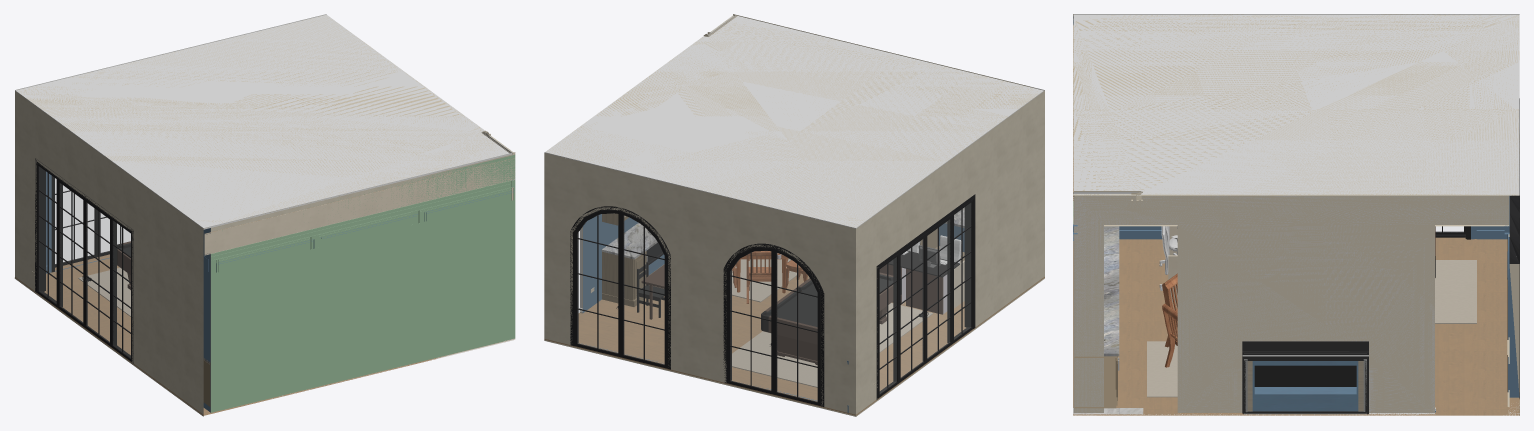
Rendered from game-room-bf35b26e3b4c.glb.
3 renders of one model, left to right at view 1: azimuth 30°, elevation 25°; view 2: azimuth 150°, elevation 25°; view 3: azimuth 270°, elevation 25°, orthographic. The views are drawn at different scales.
Visible parts, largest first — view 1: game-room-4a969f5cc1ae3dfe, game-room-30c5953c9ad73e5d, game-room-039192b0560cfac3, game-room-50d54560d247b537, game-room-9fbf623a647a21dd, game-room-2575515a05775d9e, game-room-3b0077416469e01b, game-room-67b6630d0fa028c8, game-room-8b1c368f4645b32b, game-room-bd62734a7bc60eb7, game-room-67f50005143d10e9, game-room-76fec1e12e3db62a; view 2: game-room-4a969f5cc1ae3dfe, game-room-969b861f9850351e, game-room-039192b0560cfac3, game-room-50d54560d247b537, game-room-67b6630d0fa028c8, game-room-b7bc8997c06ae95e, game-room-9fbf623a647a21dd, game-room-3b0077416469e01b, game-room-7e27048eb38fd2e0, game-room-67f50005143d10e9, game-room-7702f65bebcbcfe5, game-room-3e6709f91b43c3bf (+7 smaller); view 3: game-room-4a969f5cc1ae3dfe, game-room-3e6709f91b43c3bf, game-room-50d54560d247b537, game-room-55ff1dfd7b659ec1, game-room-3b0077416469e01b, game-room-be466a48328c943d, game-room-7ee86ede15340c02, game-room-67f50005143d10e9, game-room-b441e3c3bf4dbad3, game-room-6406bffcd6948b80, game-room-17e2c43ba4c79eae, game-room-969b861f9850351e (+8 smaller).
Boxes of the visible parts, bbox=[...] form: game-room-4a969f5cc1ae3dfe: bbox=[15, 14, 511, 229]; game-room-30c5953c9ad73e5d: bbox=[210, 155, 515, 412]; game-room-039192b0560cfac3: bbox=[15, 92, 210, 414]; game-room-50d54560d247b537: bbox=[15, 14, 512, 228]; game-room-9fbf623a647a21dd: bbox=[35, 158, 133, 363]; game-room-2575515a05775d9e: bbox=[204, 158, 515, 255]; game-room-3b0077416469e01b: bbox=[15, 254, 513, 415]; game-room-67b6630d0fa028c8: bbox=[51, 176, 130, 272]; game-room-8b1c368f4645b32b: bbox=[211, 180, 511, 260]; game-room-bd62734a7bc60eb7: bbox=[203, 153, 515, 231]; game-room-67f50005143d10e9: bbox=[78, 267, 130, 316]; game-room-76fec1e12e3db62a: bbox=[15, 278, 515, 416]; game-room-4a969f5cc1ae3dfe: bbox=[544, 16, 1044, 229]; game-room-969b861f9850351e: bbox=[544, 153, 848, 412]; game-room-039192b0560cfac3: bbox=[848, 91, 1044, 414]; game-room-50d54560d247b537: bbox=[544, 15, 1044, 228]; game-room-67b6630d0fa028c8: bbox=[723, 243, 824, 406]; game-room-b7bc8997c06ae95e: bbox=[570, 206, 670, 369]; game-room-9fbf623a647a21dd: bbox=[876, 194, 975, 399]; game-room-3b0077416469e01b: bbox=[544, 273, 1044, 415]; game-room-7e27048eb38fd2e0: bbox=[761, 272, 901, 364]; game-room-67f50005143d10e9: bbox=[732, 303, 932, 387]; game-room-7702f65bebcbcfe5: bbox=[901, 235, 961, 314]; game-room-3e6709f91b43c3bf: bbox=[582, 214, 638, 312]; game-room-4a969f5cc1ae3dfe: bbox=[1073, 14, 1519, 195]; game-room-3e6709f91b43c3bf: bbox=[1074, 194, 1509, 412]; game-room-50d54560d247b537: bbox=[1073, 14, 1519, 194]; game-room-55ff1dfd7b659ec1: bbox=[1073, 194, 1509, 414]; game-room-3b0077416469e01b: bbox=[1073, 237, 1519, 415]; game-room-be466a48328c943d: bbox=[1242, 341, 1368, 414]; game-room-7ee86ede15340c02: bbox=[1252, 361, 1358, 411]; game-room-67f50005143d10e9: bbox=[1435, 260, 1476, 323]; game-room-b441e3c3bf4dbad3: bbox=[1254, 365, 1356, 386]; game-room-6406bffcd6948b80: bbox=[1104, 254, 1119, 356]; game-room-17e2c43ba4c79eae: bbox=[1147, 341, 1177, 397]; game-room-969b861f9850351e: bbox=[1509, 194, 1519, 414].
Bounding box in the file's own units: 6.15 × 3.56 × 6.46.
Materials: 55 (14 with a texture image).
